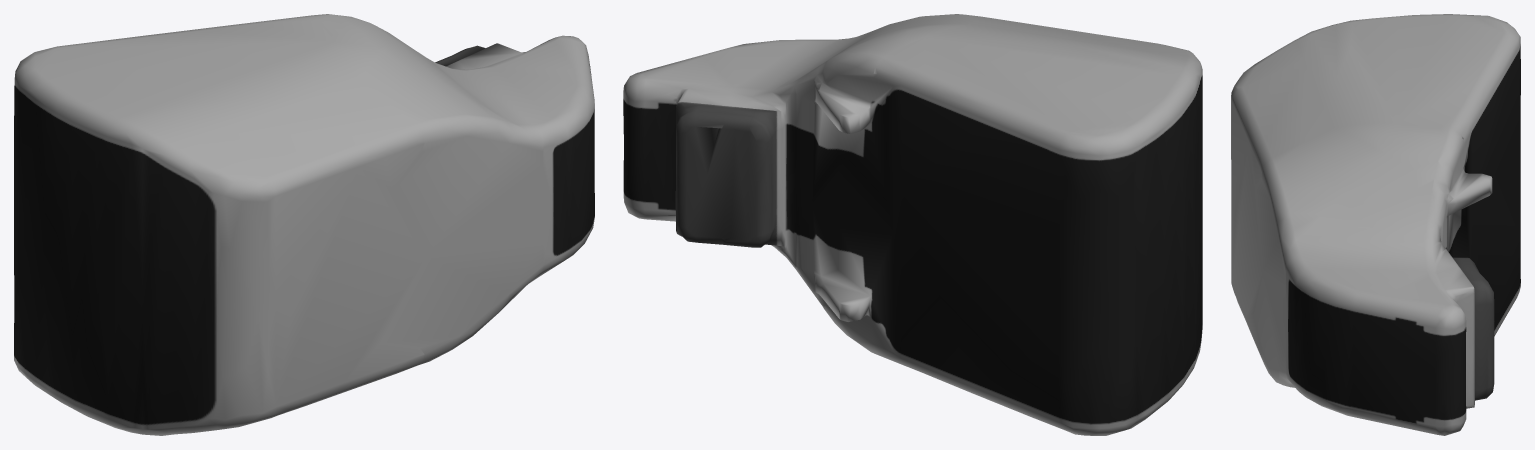
File: l_finger.obj
3 views of the same model, side by side, from view 1: azimuth 30°, elevation 25°; view 2: azimuth 150°, elevation 25°; view 3: azimuth 270°, elevation 25° (orthographic). The views are drawn at different scales.
Parts seen in each view (by area): view 1: SM_finger_M2K_mod; view 2: SM_finger_M2K_mod; view 3: SM_finger_M2K_mod.
Part boxes in pixels (left/top/right/bottom): SM_finger_M2K_mod: left=14, top=14, right=594, bottom=435; SM_finger_M2K_mod: left=623, top=14, right=1202, bottom=435; SM_finger_M2K_mod: left=1231, top=14, right=1520, bottom=435.
Size of the model in its own units: 0.1046 by 0.0562 by 0.0548.
1 material, 1 textured.
